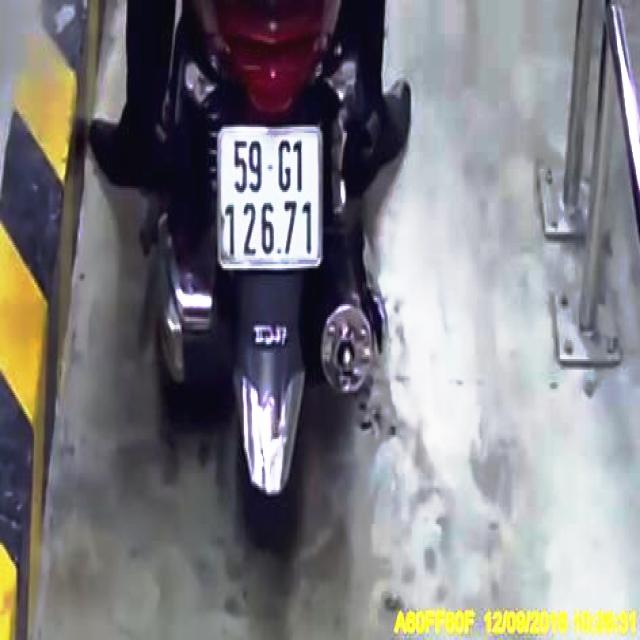license_plate: (220, 129, 322, 269)
